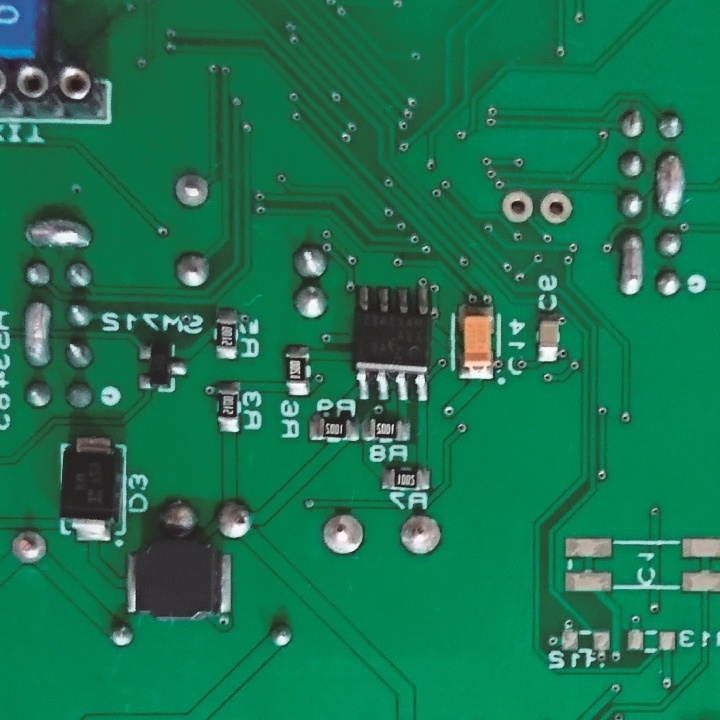F: (396, 509, 447, 559), (319, 509, 367, 555), (171, 170, 210, 212), (9, 528, 49, 567), (537, 188, 575, 227), (500, 188, 534, 225)
P: (21, 214, 97, 252), (653, 149, 685, 223), (21, 299, 55, 368), (615, 227, 644, 300)
